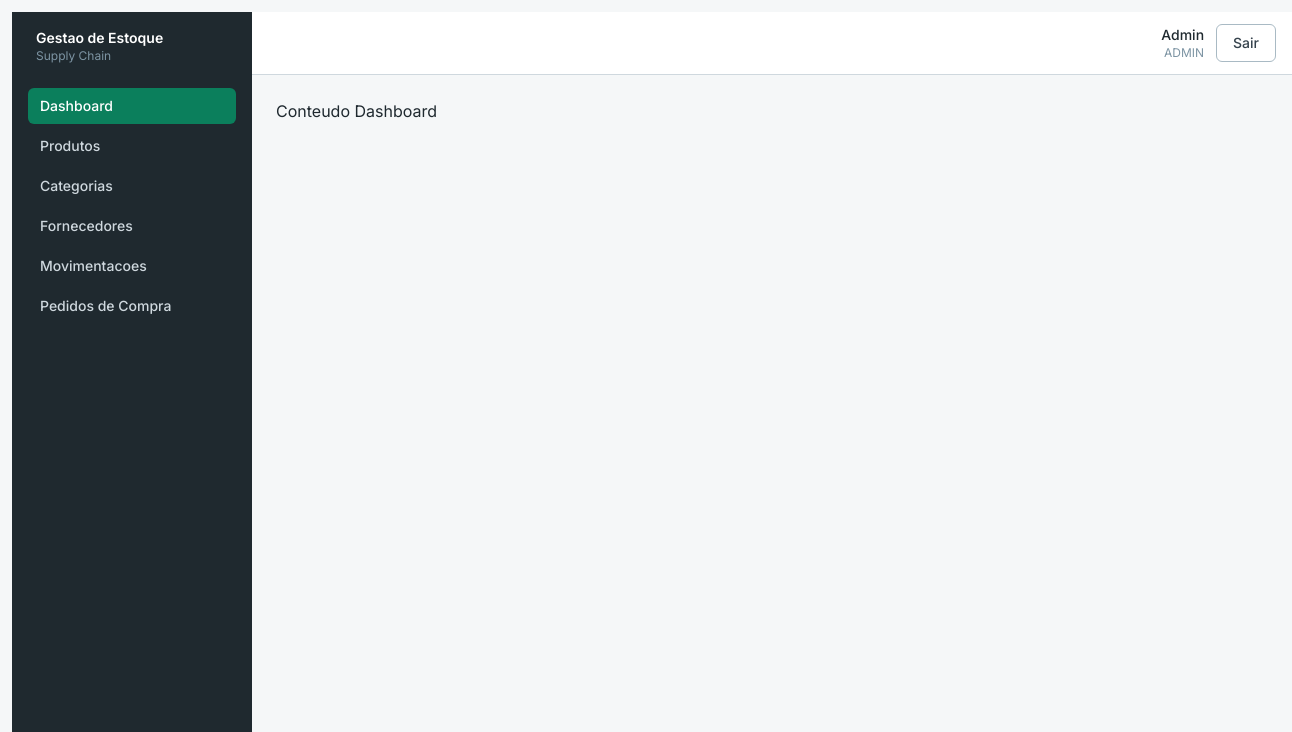
Test: Layout › encerra a sessao ao clicar em Sair
The image size is (1292, 732).
expect the text "Conteudo Dashboard" is shown: met, box [276, 101, 437, 121]
What coordinates should you click on to do the following:
click the button "Sair"
I would click on:
 (1246, 43)
Its box is [1216, 24, 1276, 62].
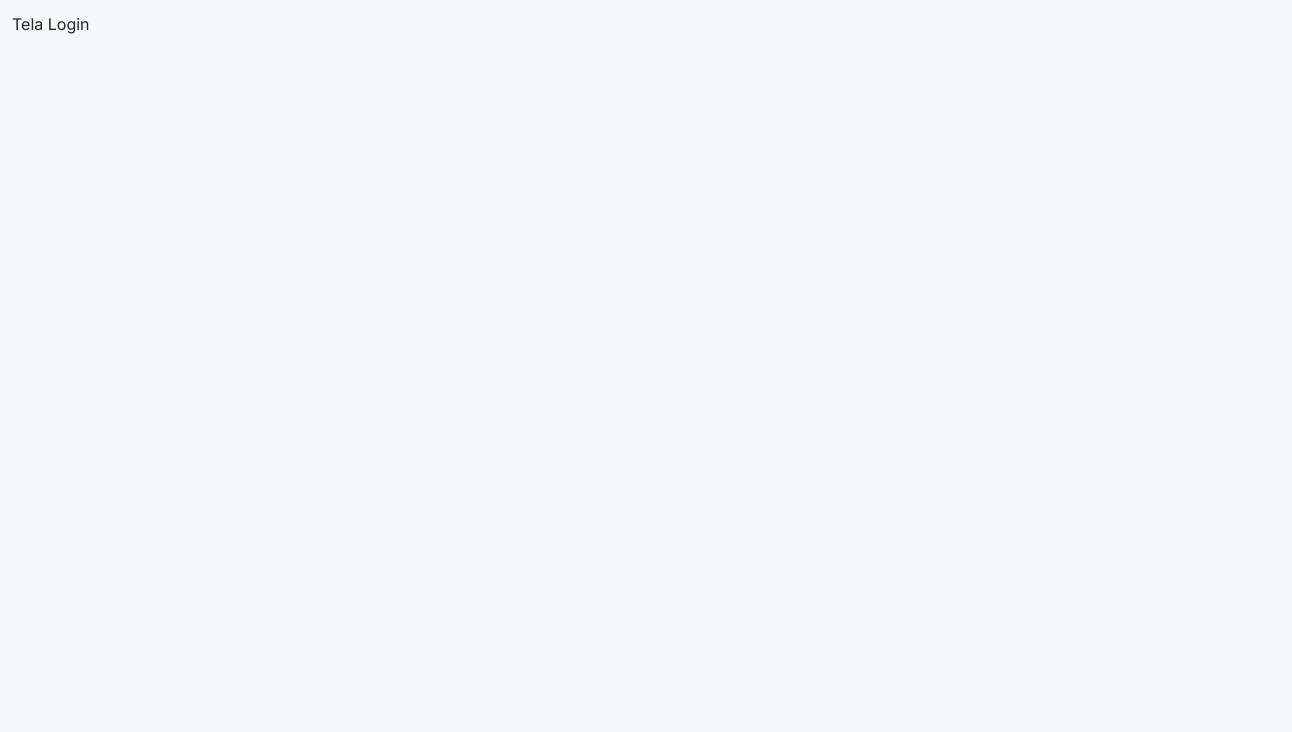
expect the text "Tela Login" is shown: met, box [12, 14, 90, 34]
